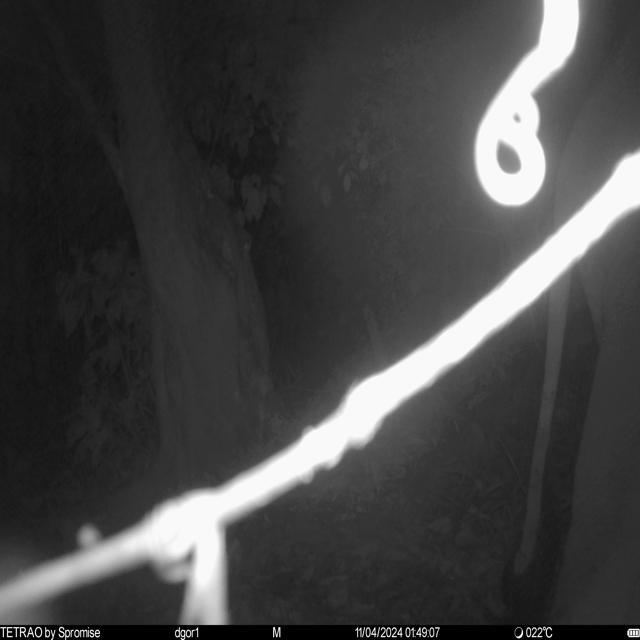elephant: (503, 0, 640, 624)
